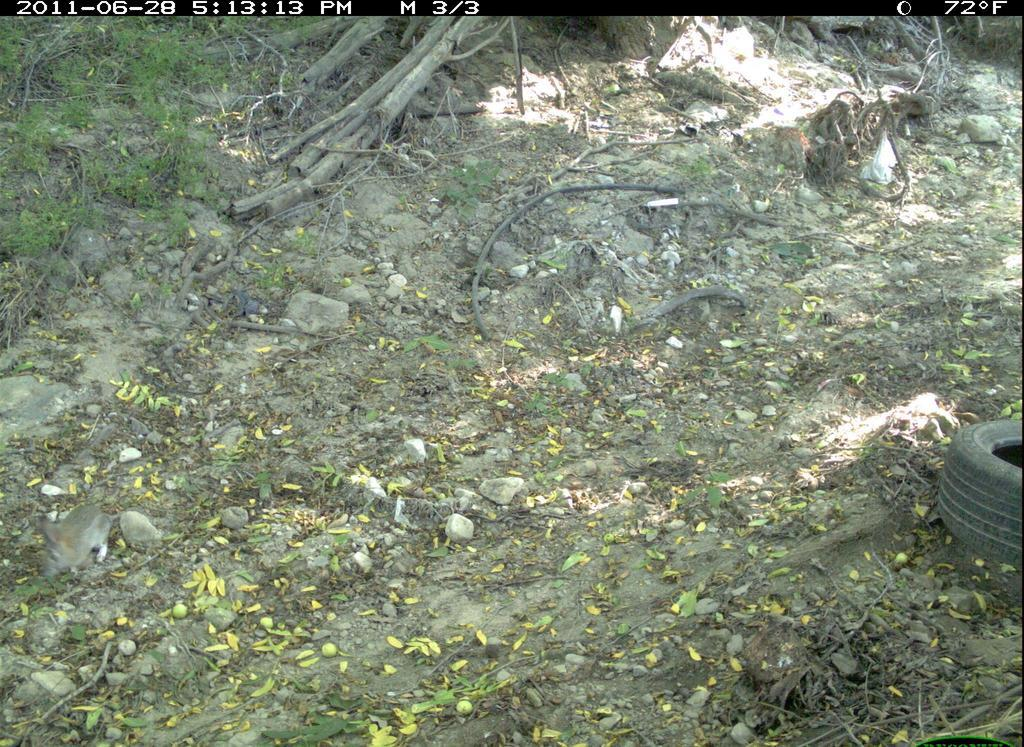rabbit: (30, 498, 118, 582)
